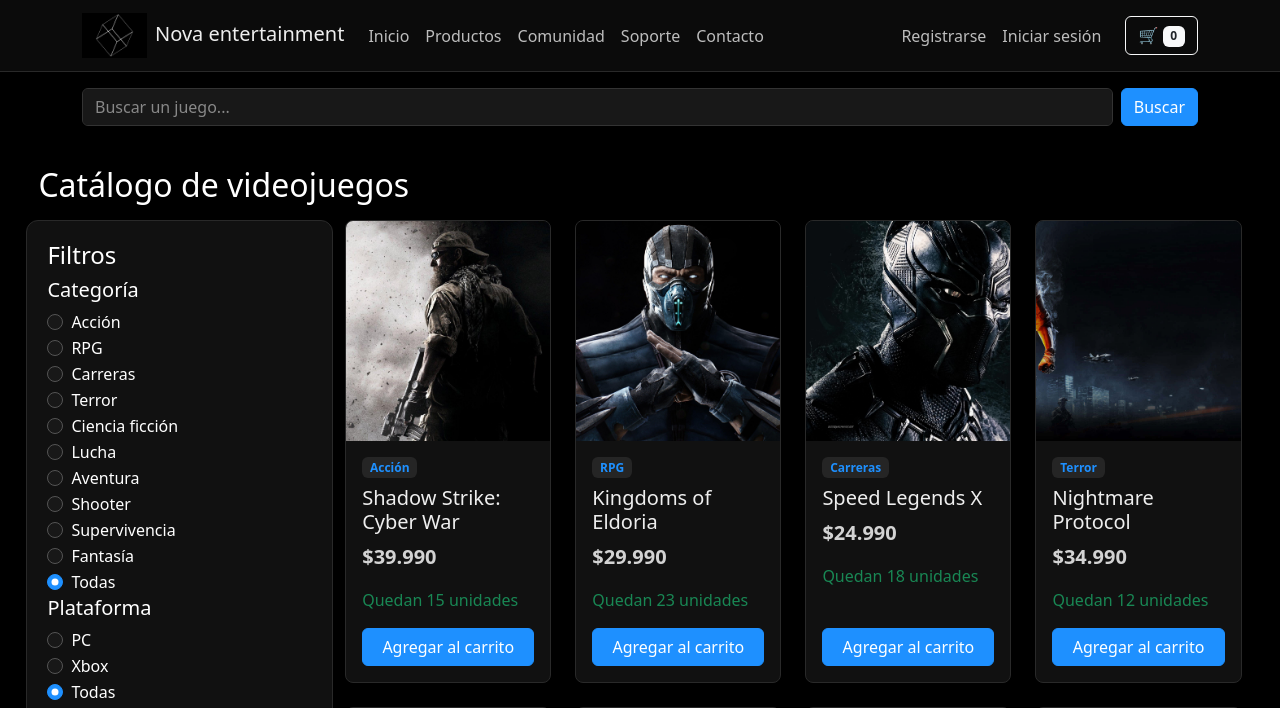
Scenario: App › combina la búsqueda con el filtro de plataforma
Click the radio button labelled "Xbox" at (55, 666), box [47,658,63,674]
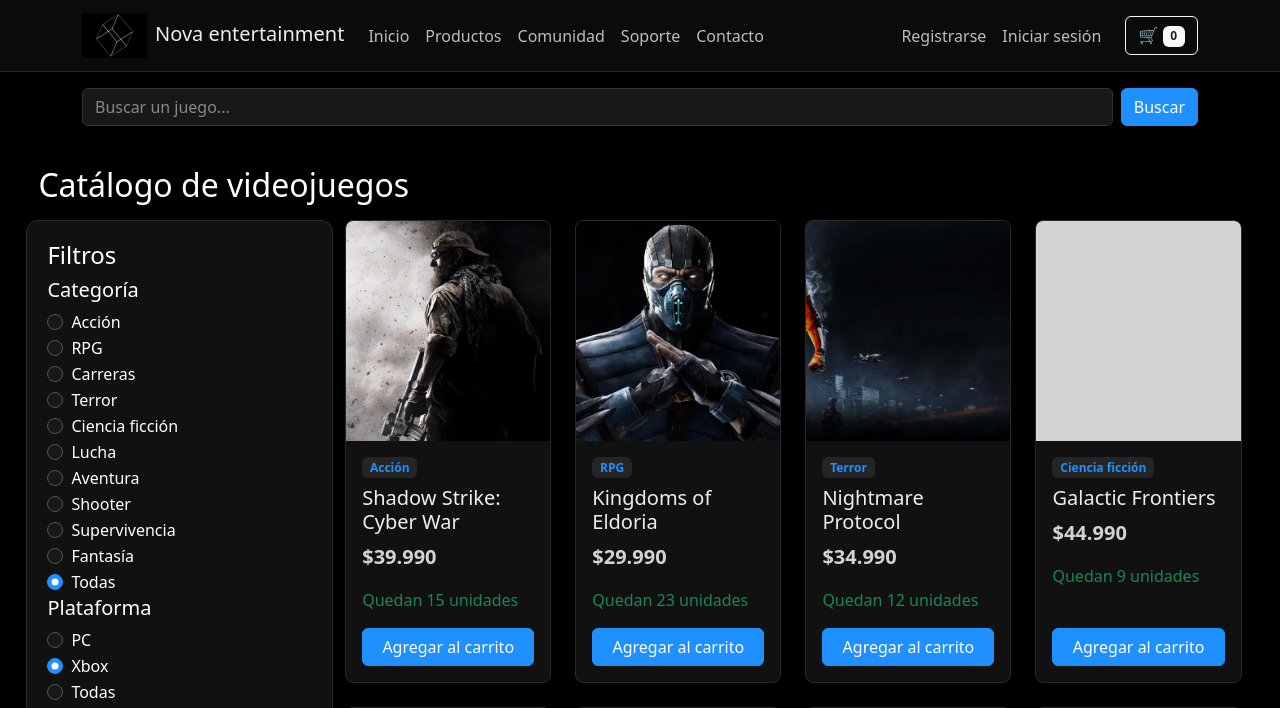
Type "Neon Drift" into the search field labelled "Buscar un juego" at (597, 107), box [82,88,1113,126]
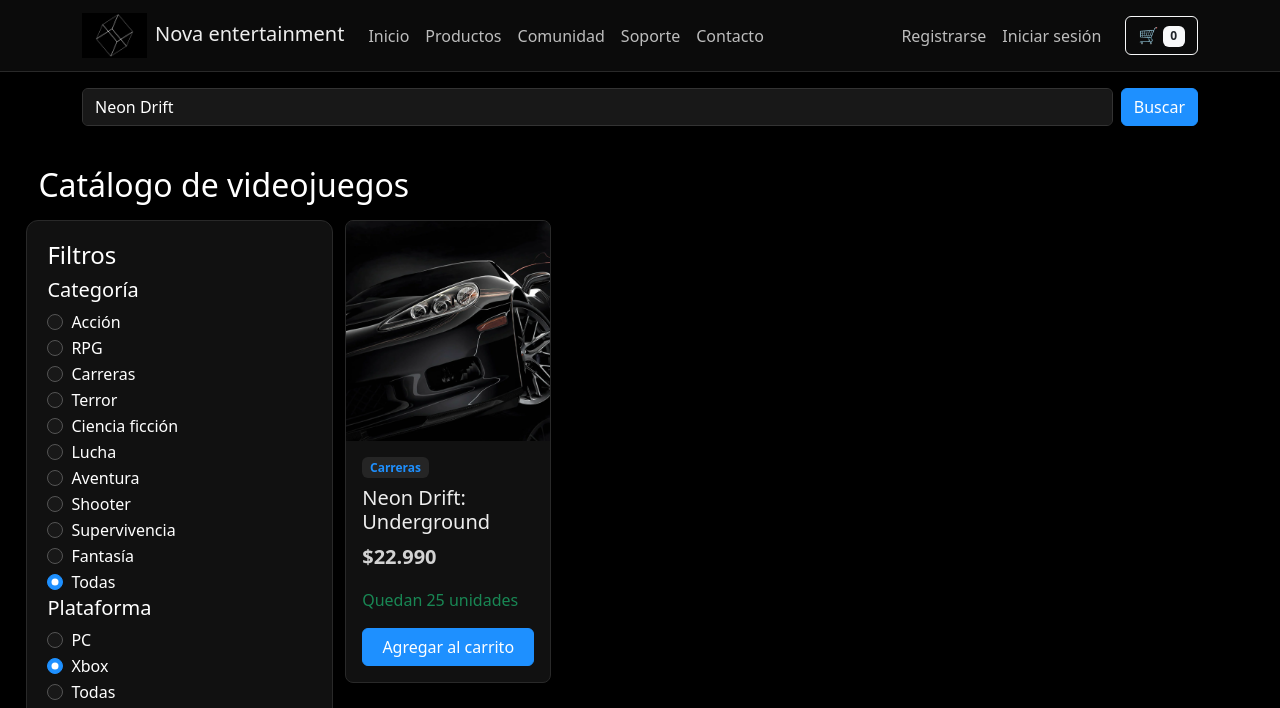
Expected: the text "Neon Drift: Underground" is shown, [362,484,490,535]
Result: the text "Nightmare Protocol" is gone
